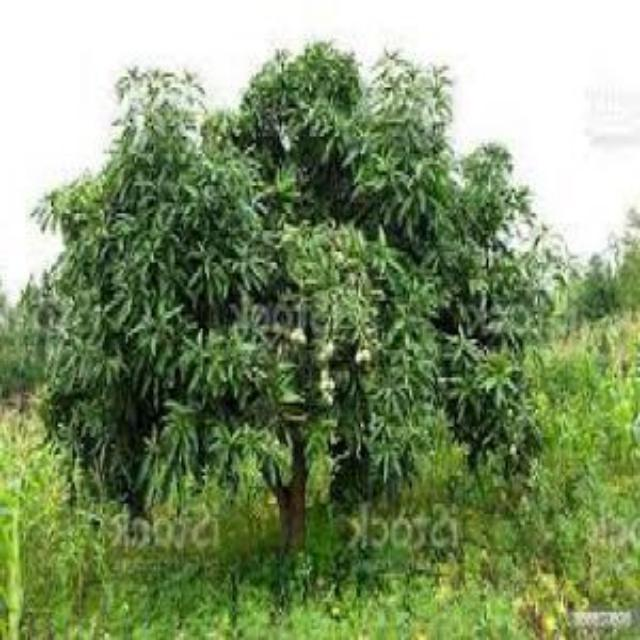tree: (32, 39, 552, 563)
